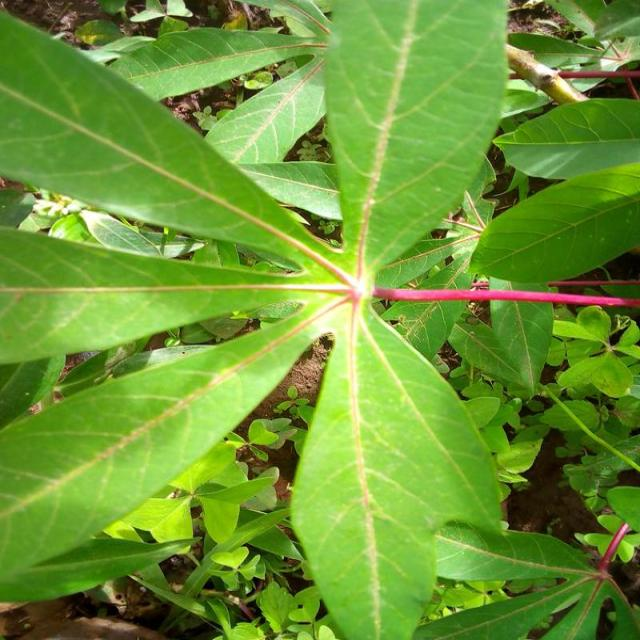cassava leaf: (2, 1, 524, 637), (1, 7, 335, 272), (289, 295, 506, 638), (323, 0, 511, 277)
